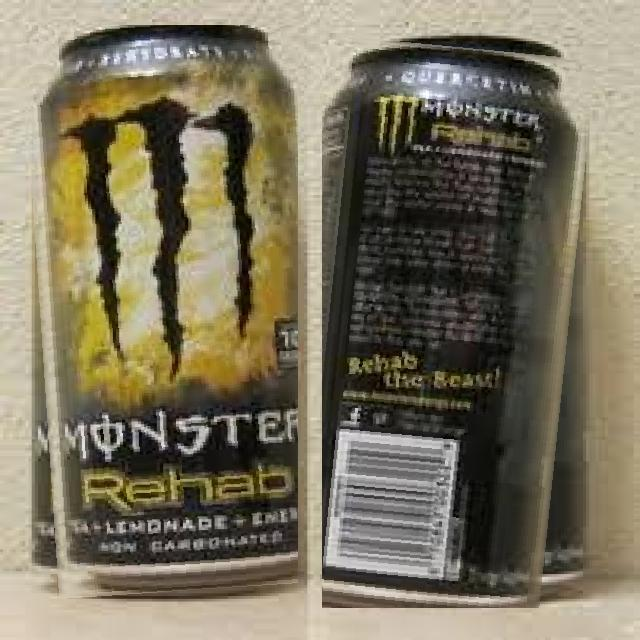Cans: (21, 26, 298, 600), (322, 34, 596, 608)
